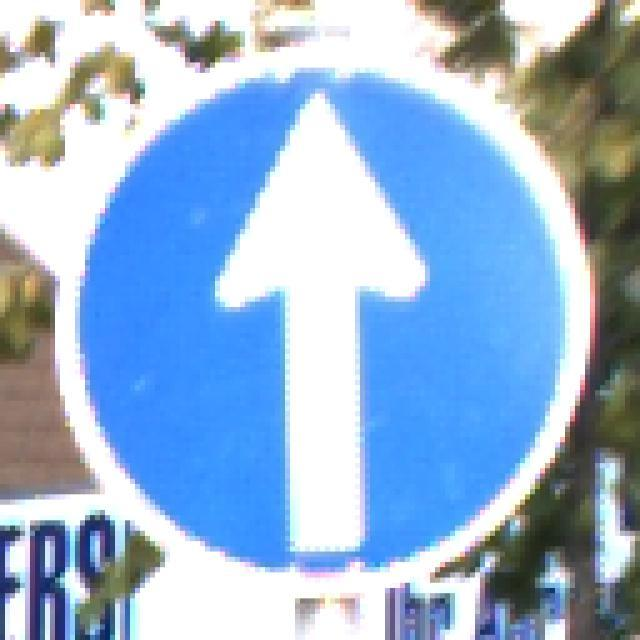compulsary ahead: (74, 60, 574, 569)
